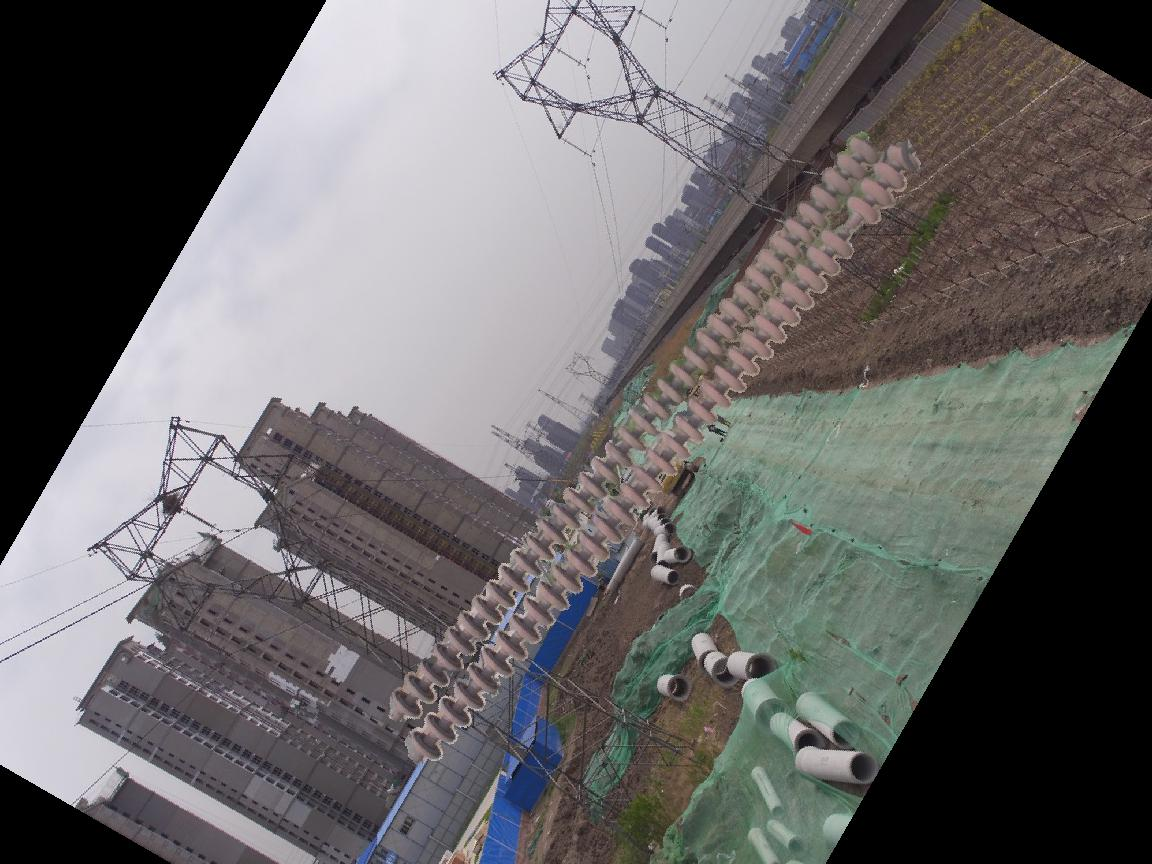insulator: (381, 129, 925, 771)
insulator_stringdrop: (818, 193, 885, 259)
